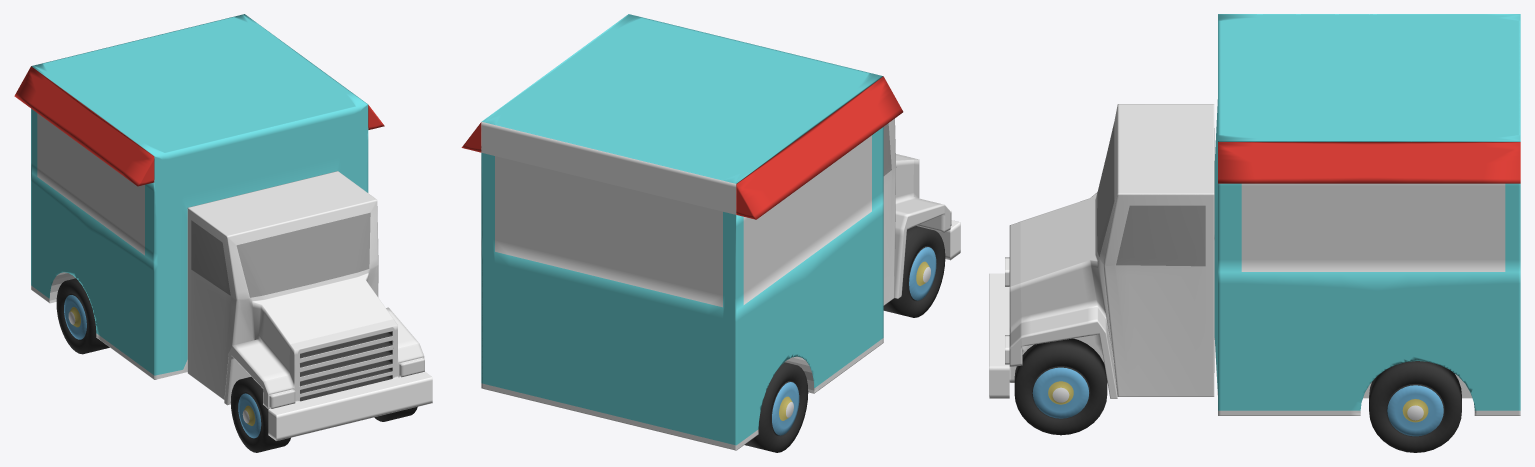
The model's file is uploads_files_3157301_cartoon+truck.fbx.
The picture shows the model from 3 angles, left to right: view 1: azimuth 30°, elevation 25°; view 2: azimuth 150°, elevation 25°; view 3: azimuth 270°, elevation 25°; orthographic projection. The views are drawn at different scales.
Visible parts, largest first — view 1: Cube, Cylinder, Cylinder.002; view 2: Cube, Cylinder.002, Cylinder; view 3: Cube, Cylinder, Cylinder.002.
Boxes of the visible parts, x1,y1,x2,y2 form: Cube: [14, 14, 432, 440]; Cylinder: [230, 376, 417, 452]; Cylinder.002: [56, 278, 109, 354]; Cube: [461, 14, 960, 450]; Cylinder.002: [745, 362, 808, 452]; Cylinder: [883, 226, 945, 317]; Cube: [989, 14, 1520, 415]; Cylinder: [1014, 338, 1107, 435]; Cylinder.002: [1369, 361, 1461, 452].
Size of the model in its own units: 231 by 228 by 351.
